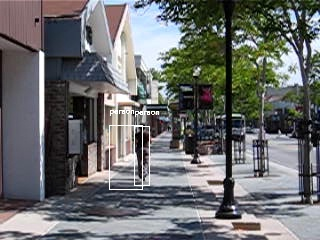person: (134, 125, 153, 183), (133, 125, 152, 183), (135, 125, 154, 183), (134, 124, 153, 182), (134, 126, 153, 184)
target_negative: (27, 48, 288, 169), (52, 158, 193, 219), (299, 31, 304, 171), (191, 216, 232, 222), (307, 82, 311, 120), (307, 190, 319, 198)
